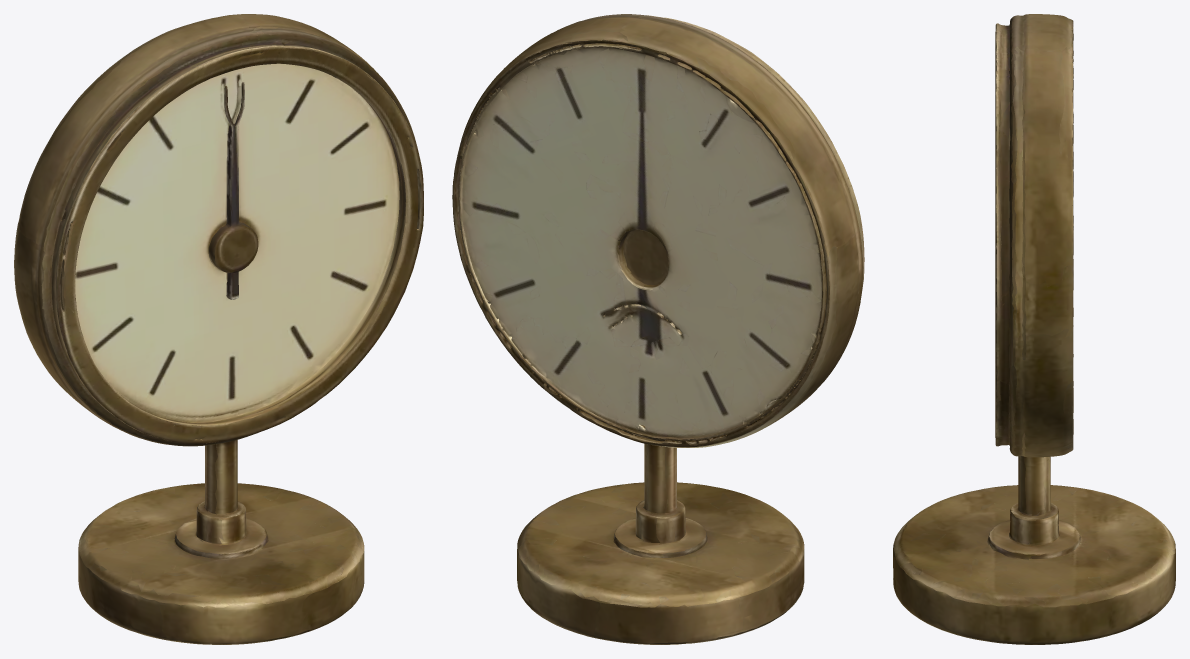
The picture shows the model from 3 angles, left to right: view 1: azimuth 30°, elevation 25°; view 2: azimuth 150°, elevation 25°; view 3: azimuth 270°, elevation 25°; orthographic projection.
Parts seen in each view (by area): view 1: geometry_0; view 2: geometry_0; view 3: geometry_0.
Boxes of the visible parts, bbox=[...] form: geometry_0: bbox=[14, 14, 423, 644]; geometry_0: bbox=[452, 14, 864, 644]; geometry_0: bbox=[893, 14, 1175, 644].
Size of the model in its own units: 0.2755 by 0.38 by 0.1768.
Materials: 1 (1 with a texture image).
